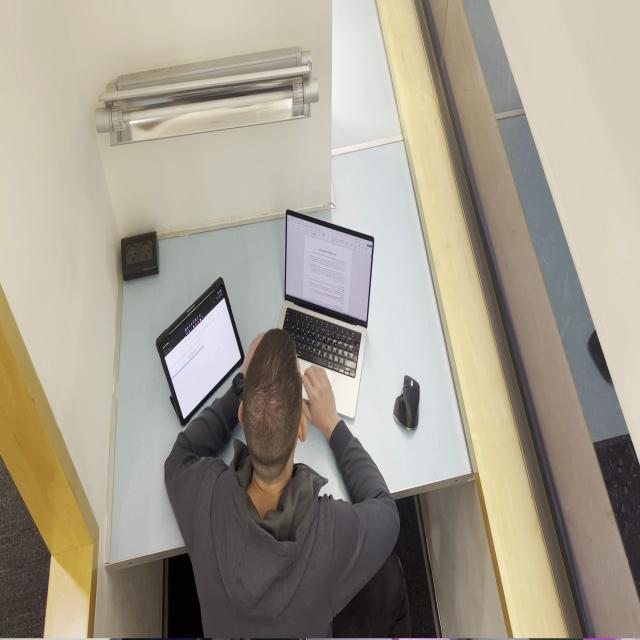bag: (155, 276, 245, 427)
ipad: (163, 328, 410, 639)
laptop: (276, 208, 374, 422)
mouse: (392, 374, 424, 430)
